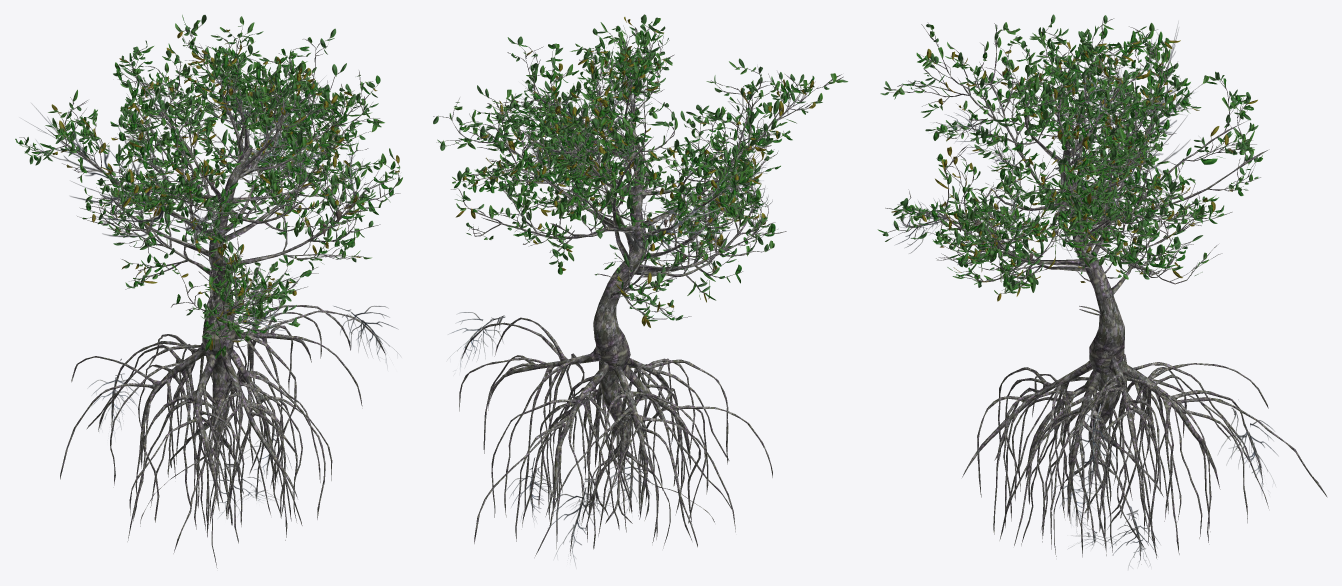
File: mangrove.glb
3 renders of one model, left to right at view 1: azimuth 30°, elevation 25°; view 2: azimuth 150°, elevation 25°; view 3: azimuth 270°, elevation 25°, orthographic. The views are drawn at different scales.
Parts seen in each view (by area): view 1: RedMangrove_Tree_w; view 2: RedMangrove_Tree_w; view 3: RedMangrove_Tree_w.
Part boxes in pixels (x1,y1,x2,y2): RedMangrove_Tree_w: (15,15,402,568); RedMangrove_Tree_w: (433,14,847,565); RedMangrove_Tree_w: (877,14,1327,568).
Size of the model in its own units: 4.81 by 6.89 by 5.12.
Materials: 2 (2 with a texture image).
